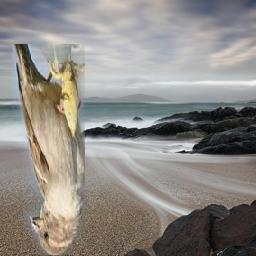Sparrow: (13, 45, 86, 256)
